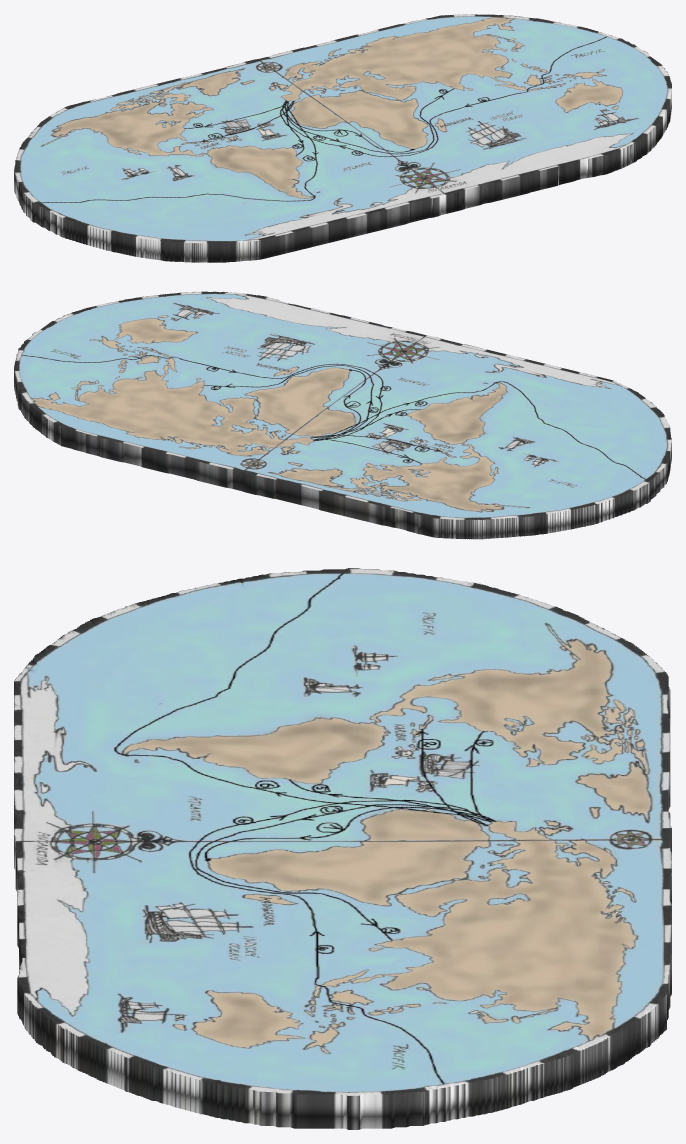
Rendered from voyages-map.glb.
The picture shows the model from 3 angles, top to bottom: view 1: azimuth 30°, elevation 25°; view 2: azimuth 150°, elevation 25°; view 3: azimuth 270°, elevation 25°; orthographic projection. The views are drawn at different scales.
Parts seen in each view (by area): view 1: Plane; view 2: Plane; view 3: Plane.
Boxes of the visible parts, x1,y1,x2,y2 form: Plane: (14,14,671,262); Plane: (14,291,671,539); Plane: (14,568,671,1129).
Size of the model in its own units: 3.77 by 0.1124 by 1.98.
1 material, 1 textured.
